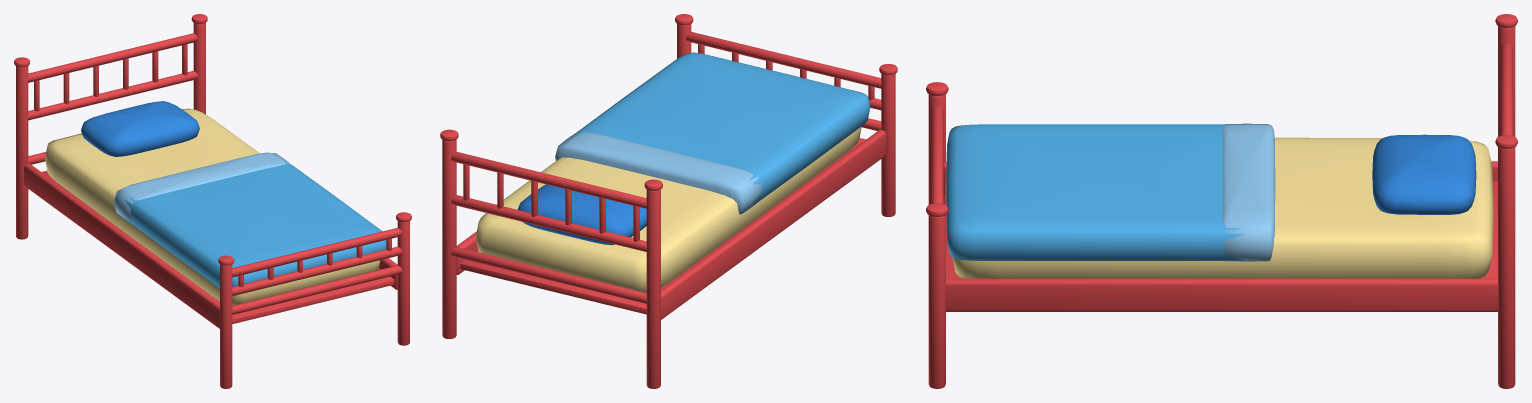
Rendered from cama_solteiro_tubo_vermelha.glb.
3 renders of one model, left to right at view 1: azimuth 30°, elevation 25°; view 2: azimuth 150°, elevation 25°; view 3: azimuth 270°, elevation 25°, orthographic. The views are drawn at different scales.
Parts seen in each view (by area): view 1: cama_solteiro_tubo_vermelha; view 2: cama_solteiro_tubo_vermelha; view 3: cama_solteiro_tubo_vermelha.
Part boxes in pixels (box(x1,y1,x2,y2)): cama_solteiro_tubo_vermelha: box(14, 14, 411, 388); cama_solteiro_tubo_vermelha: box(440, 14, 897, 388); cama_solteiro_tubo_vermelha: box(926, 14, 1517, 388).
Bounding box in the file's own units: 1.07 × 0.945 × 2.05.
1 material, 1 textured.
